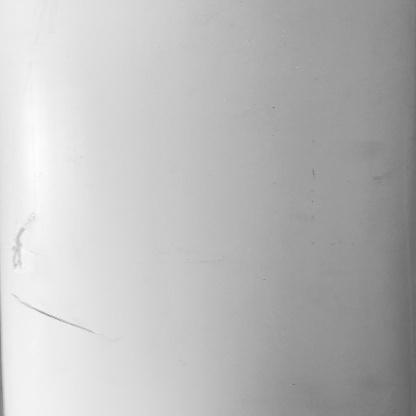sunshang: (4, 217, 92, 341)
